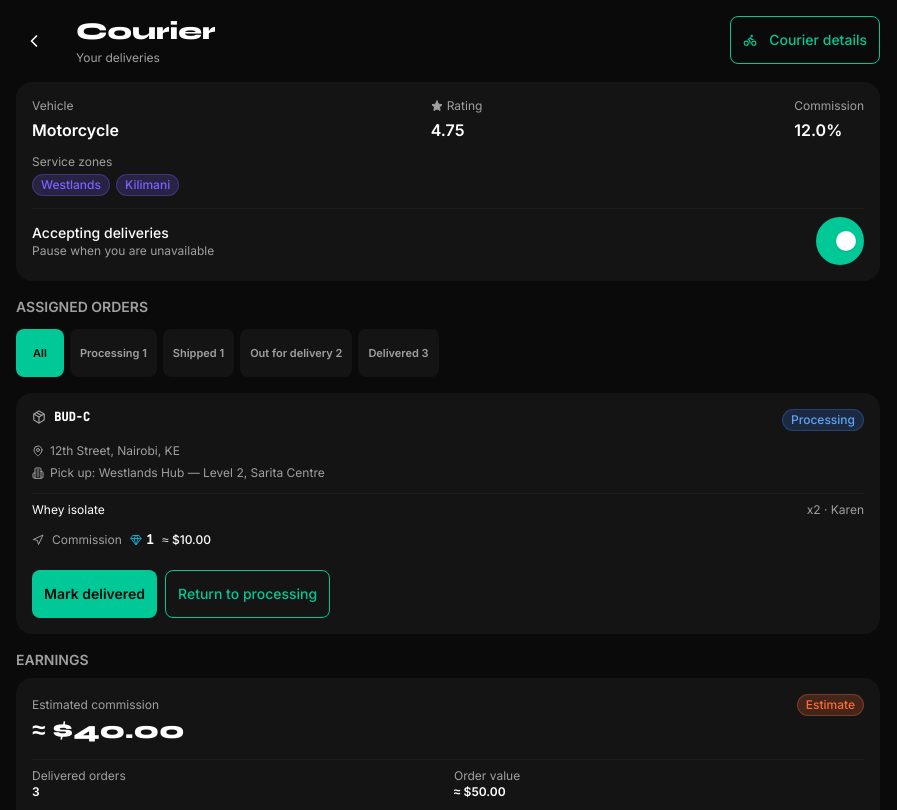
Test case: CourierDashboard — legal status transitions › surfaces the 400 that names an illegal move
Expected: the text "BUD-C" is shown, [54,409,90,425]
Click the button "Mark delivered".
click(95, 594)  # box [32,570,157,618]
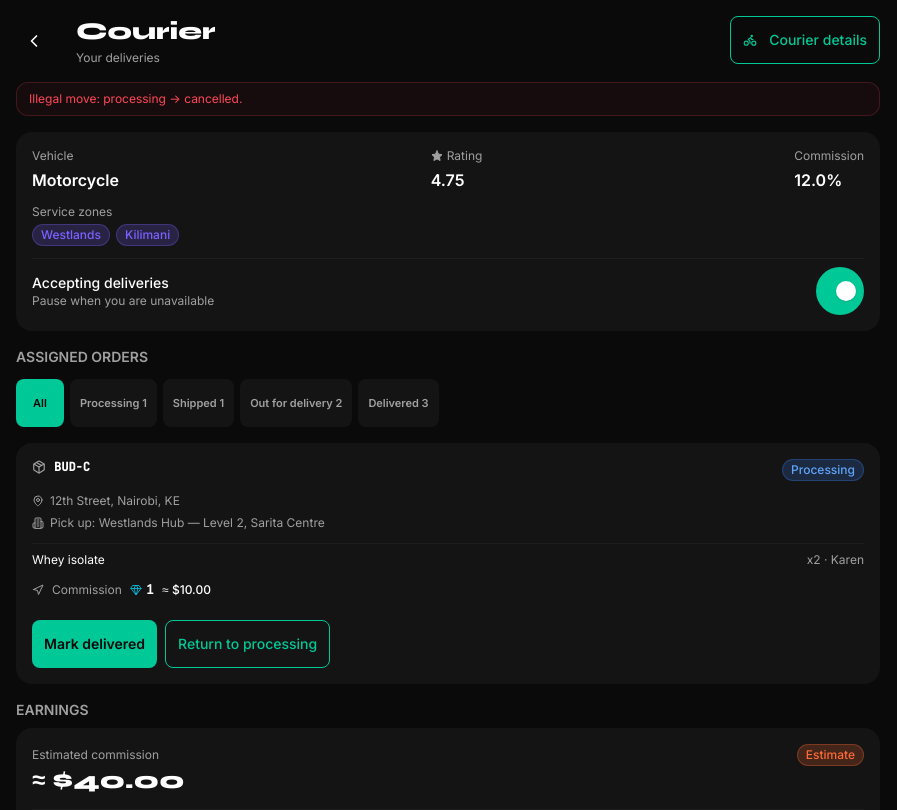
Now the message reads "Illegal move: processing -> cancelled.", box [29,91,242,106]
